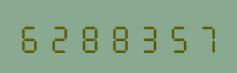eight: (75, 20, 103, 53), (104, 20, 132, 53)
five: (162, 20, 190, 53)
seven: (191, 20, 219, 53)
six: (17, 20, 45, 53)
three: (133, 20, 161, 53)
two: (46, 20, 74, 53)
